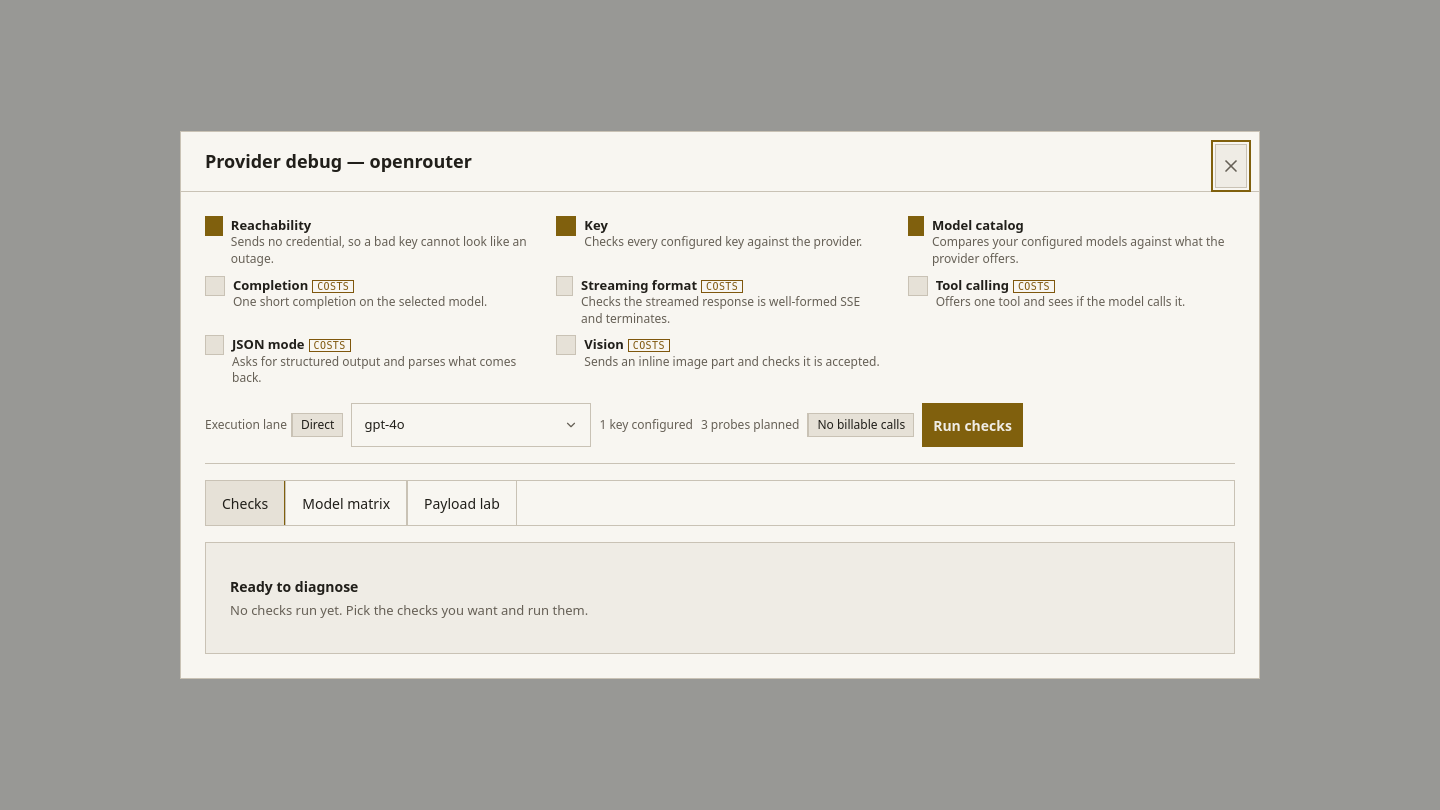
ProviderDebugDrawer › shows the planned workload and cost before a run
Check: the text "3 probes planned" is shown, box [701,416,799,434]
Check: the text "No billable calls" is shown, box [807,413,914,437]
Click the checkbox labelled "Completion": (215, 286) [205,276,225,296]
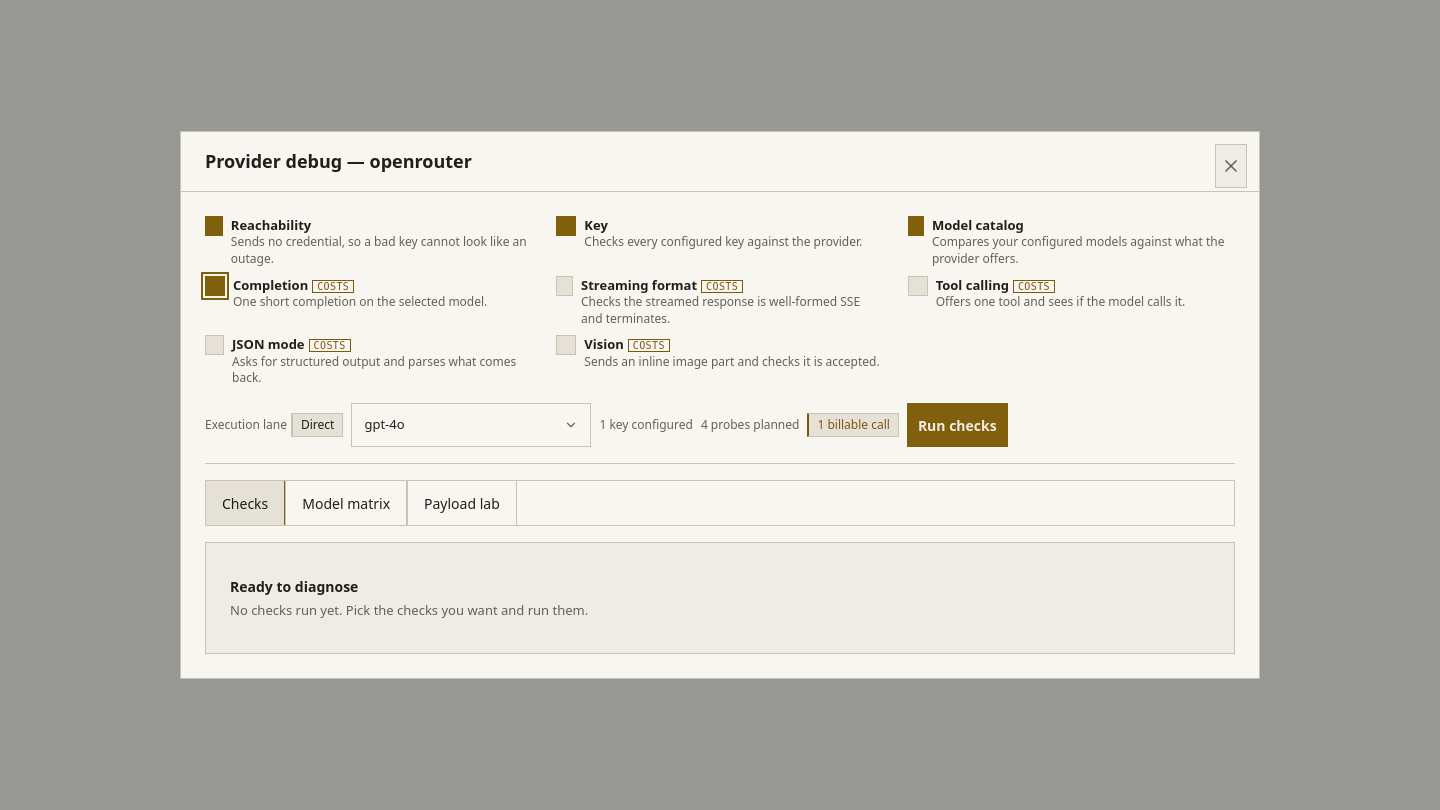
Check: the text "4 probes planned" is shown, box [701,416,799,434]
Check: the text "1 billable call" is shown, box [807,413,899,437]
